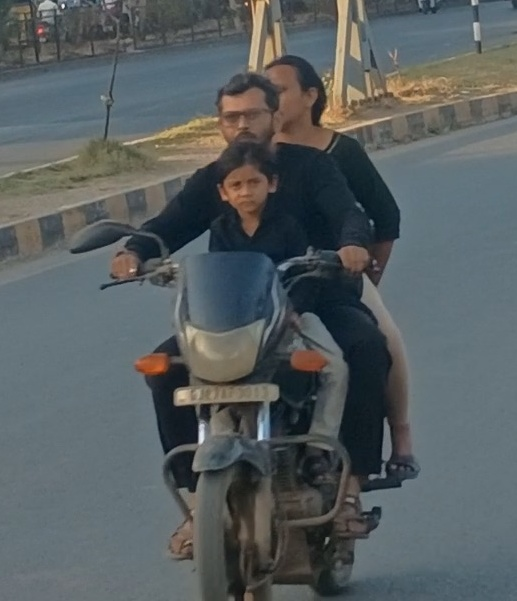BikeWithRider: (60, 47, 430, 601)
NoHelmet: (204, 67, 288, 155), (204, 139, 286, 222), (255, 49, 333, 134)
